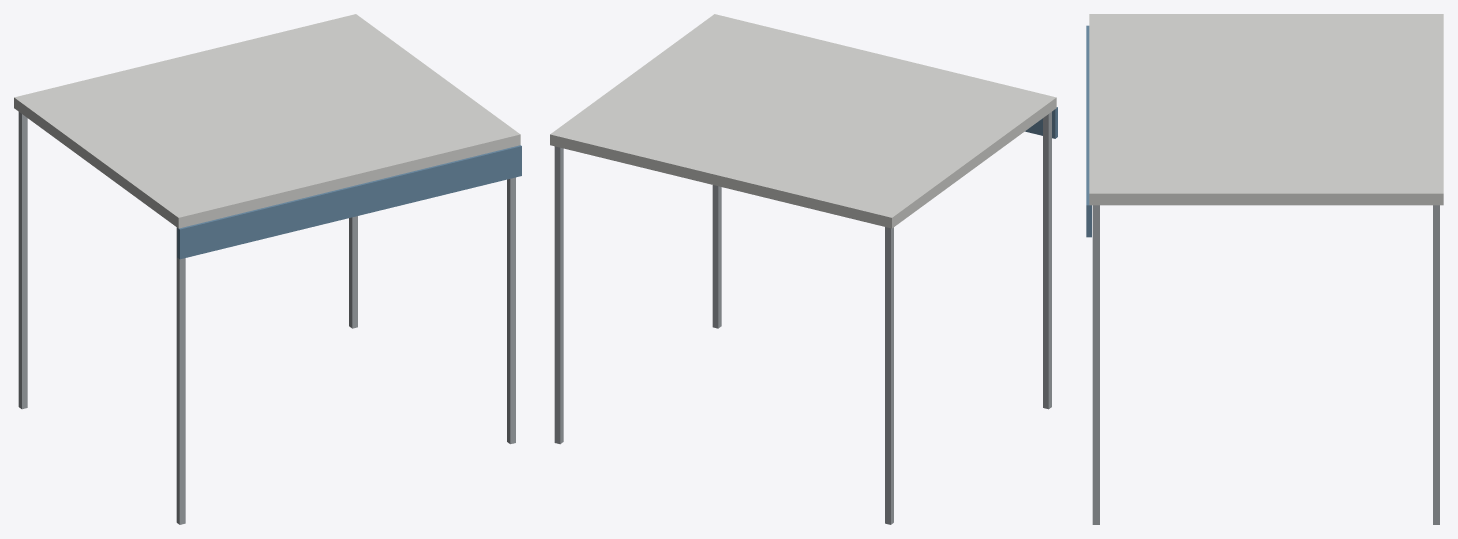
Rendered from motorcycle-racing-and-street-bikes-transport-van-awnin-27322a6d__15456.glb.
The picture shows the model from 3 angles, left to right: view 1: azimuth 30°, elevation 25°; view 2: azimuth 150°, elevation 25°; view 3: azimuth 270°, elevation 25°; orthographic projection. The views are drawn at different scales.
Visible parts, largest first — view 1: transport-van-awning; view 2: transport-van-awning; view 3: transport-van-awning.
Boxes of the visible parts, x1,y1,x2,y2 form: transport-van-awning: (14, 14, 521, 524); transport-van-awning: (550, 14, 1057, 524); transport-van-awning: (1086, 14, 1443, 524).
Size of the model in its own units: 3 by 2.59 by 2.52.
